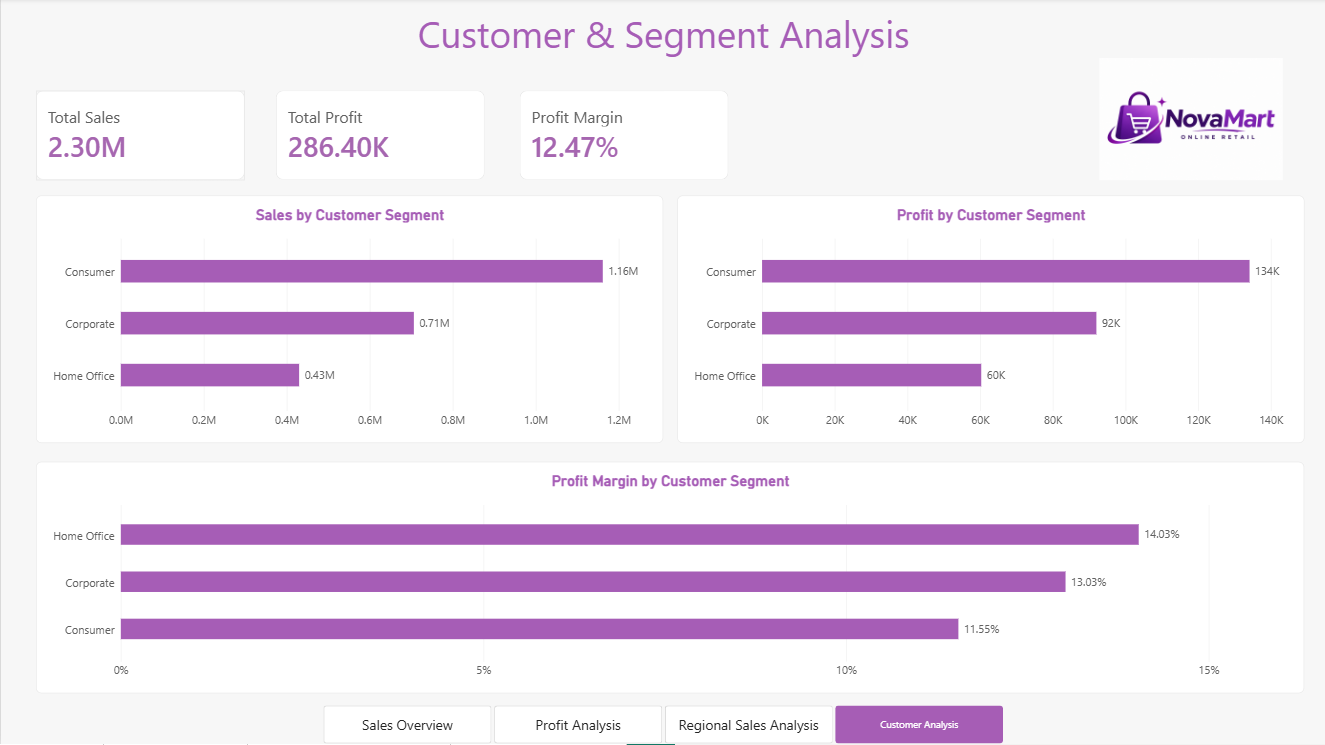

This screenshot's page, from the dashboard's own definition file:
{"tool":"powerbi","page":{"name":"Customer Analysis","canvas":[1920,1080],"ordinal":3},"visuals":[{"type":"cardVisual","fields":{"Data":["Sample - Superstore.Total Sales"]},"box":[50.6,133.8,302.6,129.7],"z":0},{"type":"textbox","box":[590.5,14.4,738.9,80.3],"z":1000},{"type":"cardVisual","fields":{"Data":["Sample - Superstore.Total Profit"]},"box":[398.5,133.8,302.6,129.7],"z":2000},{"type":"cardVisual","fields":{"Data":["Sample - Superstore.Profit Margin"]},"box":[751.3,134.6,302.6,129.7],"z":3000},{"type":"image","box":[1558.2,86.4,329.3,177],"z":4000},{"type":"clusteredBarChart","title":"Sales by Customer Segment","fields":{"Category":["Sample - Superstore.Segment"],"Y":["Sample - Superstore.Total Sales"]},"box":[51.5,286.1,907.7,358.1],"z":5000},{"type":"clusteredBarChart","title":"Profit by Customer Segment","fields":{"Category":["Sample - Superstore.Segment"],"Y":["Sample - Superstore.Total Profit"]},"box":[979.8,286.1,907.7,358.1],"z":5001},{"type":"clusteredBarChart","title":"Profit by Customer Segment","fields":{"Category":["Sample - Superstore.Segment"],"Y":["Sample - Superstore.Profit Margin"]},"box":[51.5,671,1836,335.5],"z":5002},{"type":"pageNavigator","box":[466.1,1024.1,987.8,55.6],"z":5004}]}

Visuals, with their boxes in screenshot pixels (x1, y1, x2, y2), scaled from the page's 1920x1080 canvas onto the 1325x745 screenshot:
cardVisual - Sample - Superstore.Total Sales: {"x1": 35, "y1": 92, "x2": 244, "y2": 182}
textbox: {"x1": 408, "y1": 10, "x2": 917, "y2": 65}
cardVisual - Sample - Superstore.Total Profit: {"x1": 275, "y1": 92, "x2": 484, "y2": 182}
cardVisual - Sample - Superstore.Profit Margin: {"x1": 518, "y1": 93, "x2": 727, "y2": 182}
image: {"x1": 1075, "y1": 60, "x2": 1303, "y2": 182}
"Sales by Customer Segment" clusteredBarChart: {"x1": 36, "y1": 197, "x2": 662, "y2": 444}
"Profit by Customer Segment" clusteredBarChart: {"x1": 676, "y1": 197, "x2": 1303, "y2": 444}
"Profit by Customer Segment" clusteredBarChart: {"x1": 36, "y1": 463, "x2": 1303, "y2": 694}
pageNavigator: {"x1": 322, "y1": 706, "x2": 1003, "y2": 744}
